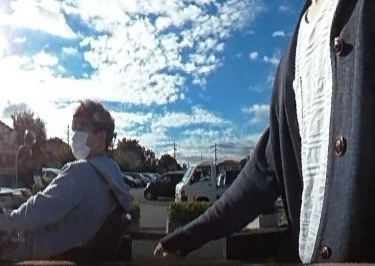person: (11, 100, 127, 266), (17, 128, 39, 187)
